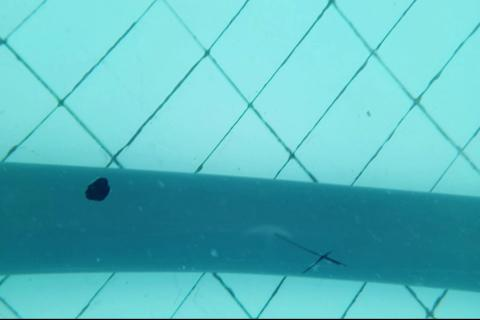kebocoran: (84, 174, 111, 203)
keretakan: (270, 230, 349, 274)
